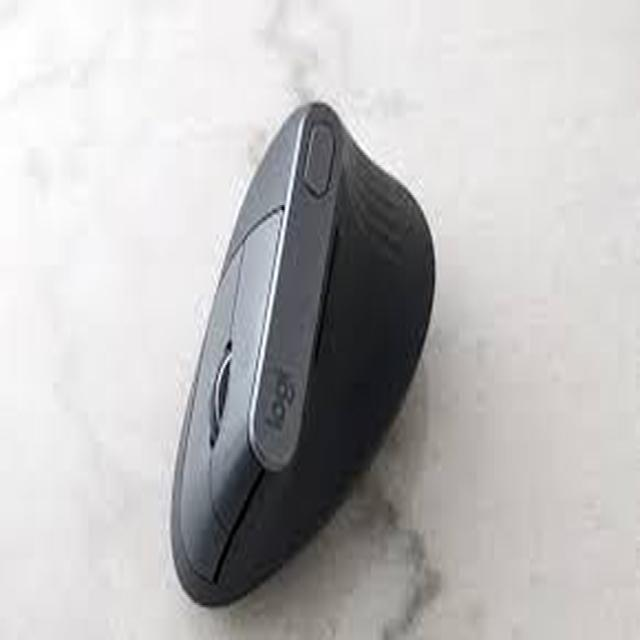mouse: (147, 119, 459, 590)
